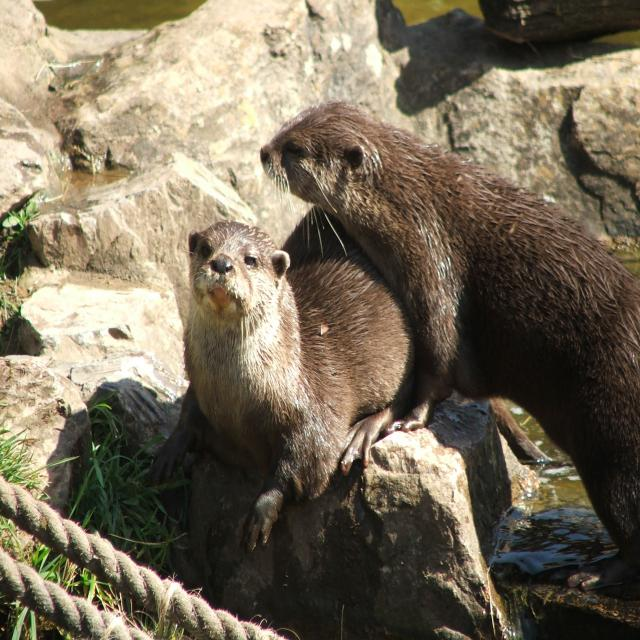otter: (263, 102, 640, 400), (189, 197, 413, 519)
